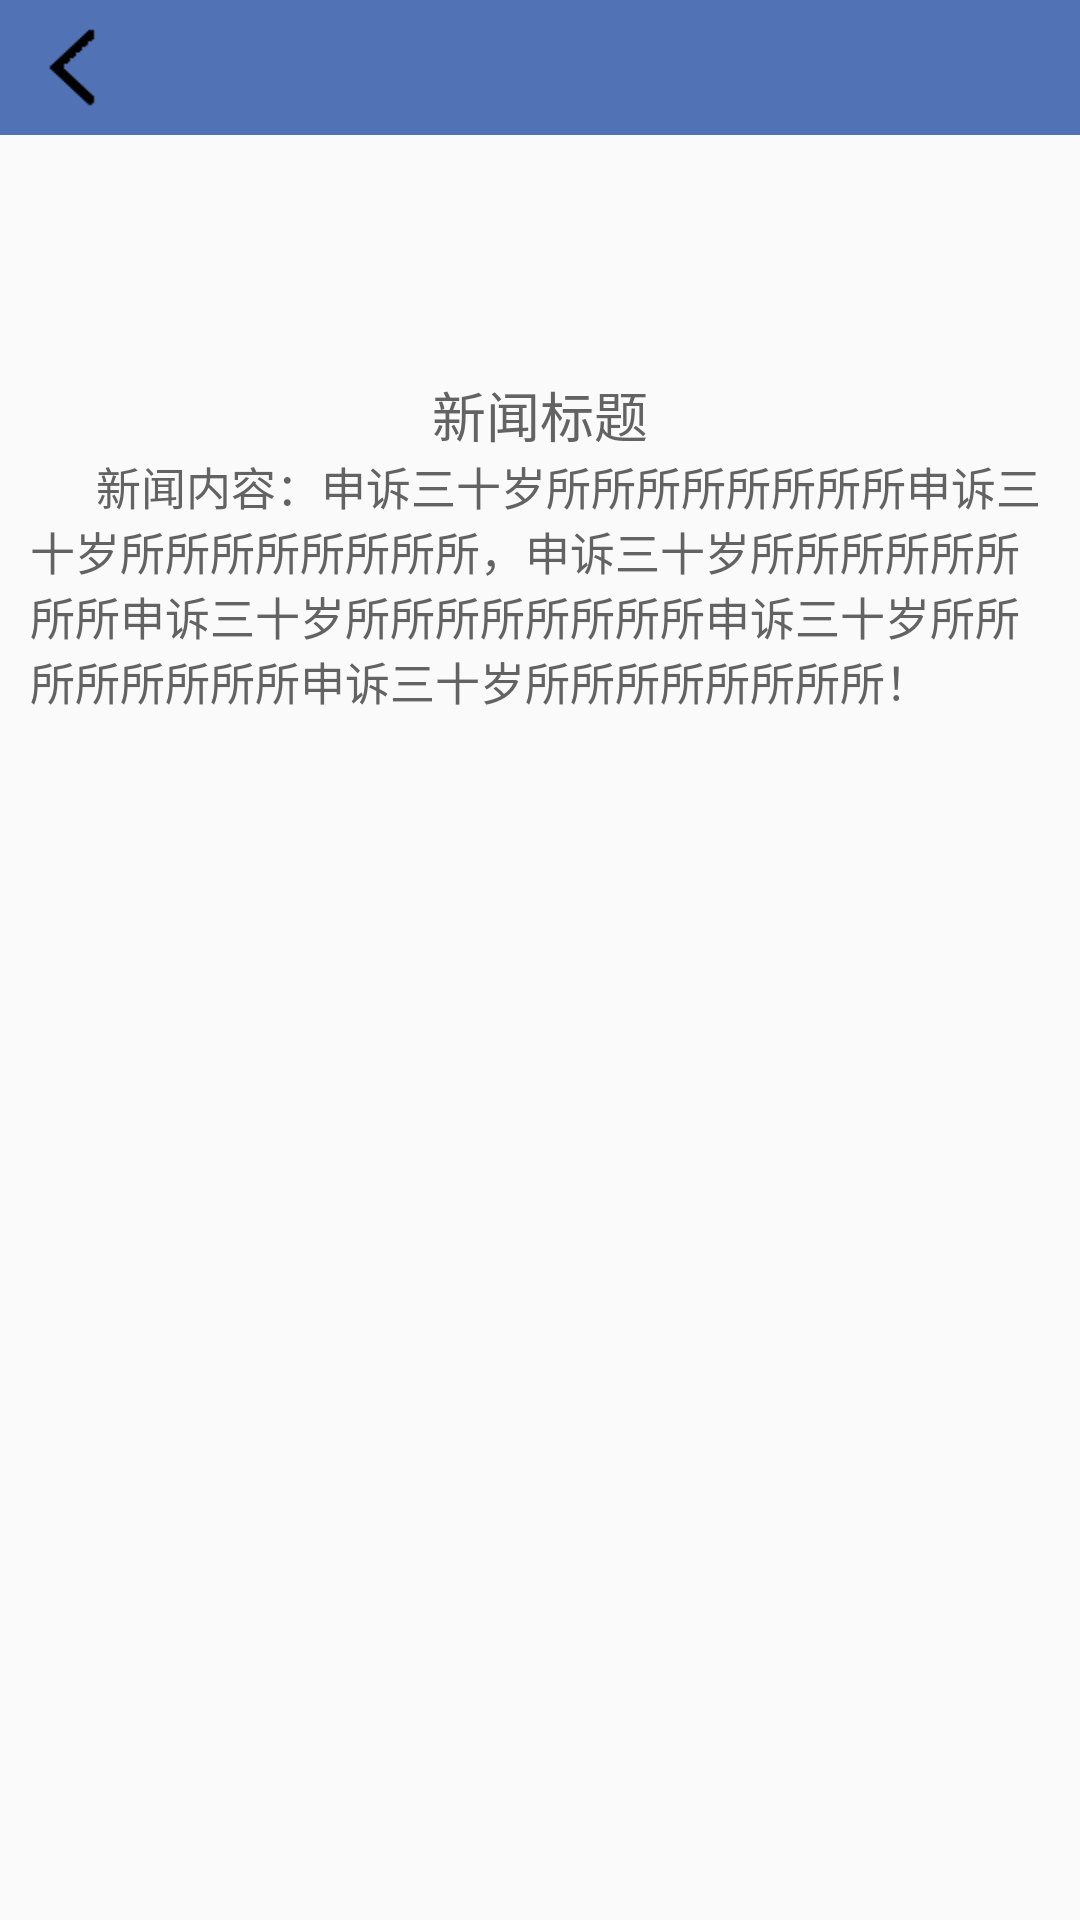

Named icons in this screenshot (1080*1920) and their bounding boxes, box=[x1, y1, x2, y2]:
fanhui: box=[49, 29, 95, 106]
